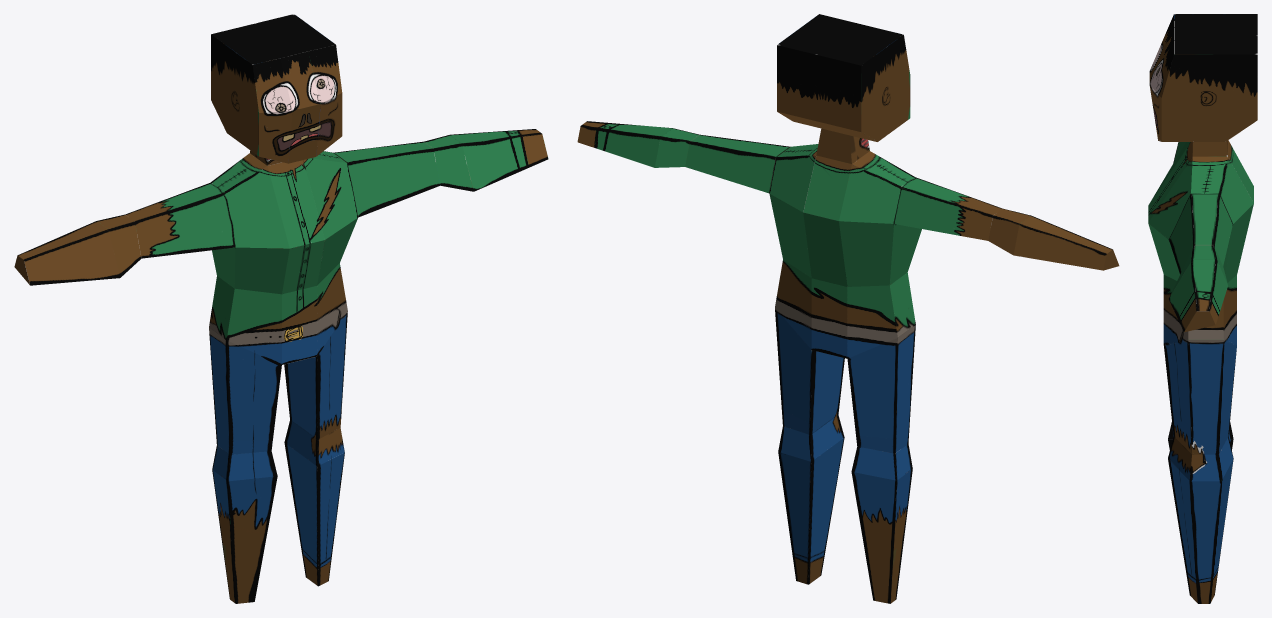
Rendered from ZOMBIE 6 FBX.fbx.
3 renders of one model, left to right at view 1: azimuth 30°, elevation 25°; view 2: azimuth 150°, elevation 25°; view 3: azimuth 270°, elevation 25°, orthographic.
Visible parts, largest first — view 1: ZOMBIE2_2.004; view 2: ZOMBIE2_2.004; view 3: ZOMBIE2_2.004.
Boxes of the visible parts, left/top/right/bottom form: ZOMBIE2_2.004: left=14, top=14, right=548, bottom=603; ZOMBIE2_2.004: left=577, top=14, right=1119, bottom=603; ZOMBIE2_2.004: left=1148, top=14, right=1257, bottom=603.
Bounding box in the file's own units: 830 × 836 × 152.
Materials: 1 (1 with a texture image).
